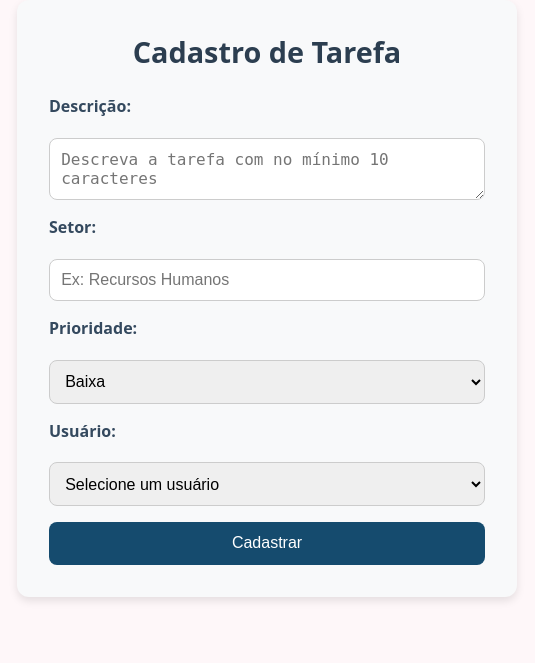
Test case: CadastroTarefa - Testes completos › 1. Deve exibir erro se a descrição estiver vazia
This screenshot has width=535, height=663.
Type "TI" into the field labelled "Setor:" at (267, 280), box [49,259,485,301]
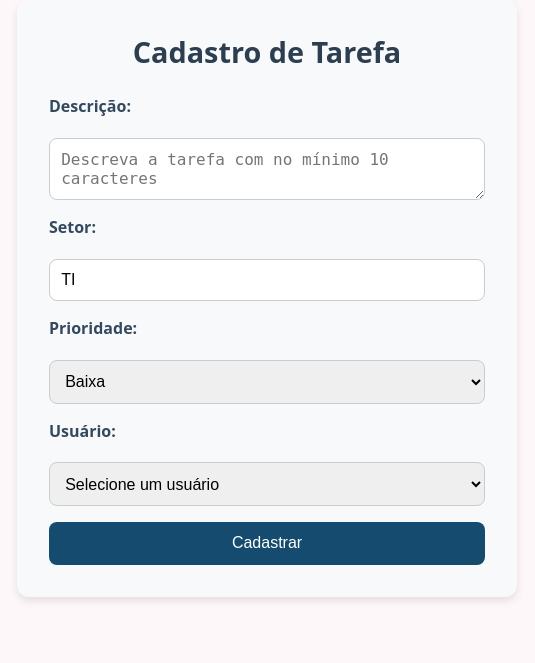
Select "1" in the dropdown labelled "Usuário:" at (267, 484), box [49,462,485,506]
Click the button at (267, 544), box [49,522,485,565]
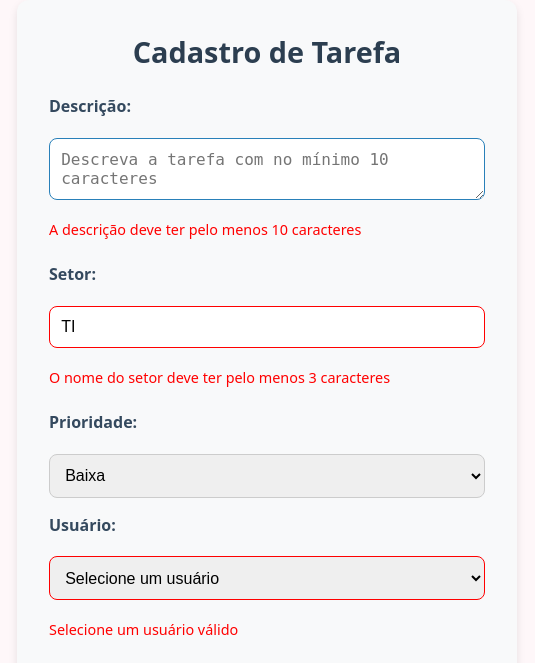
Now the text "A descrição deve ter pelo menos 10 caracteres" is shown, box [49,220,361,239]
